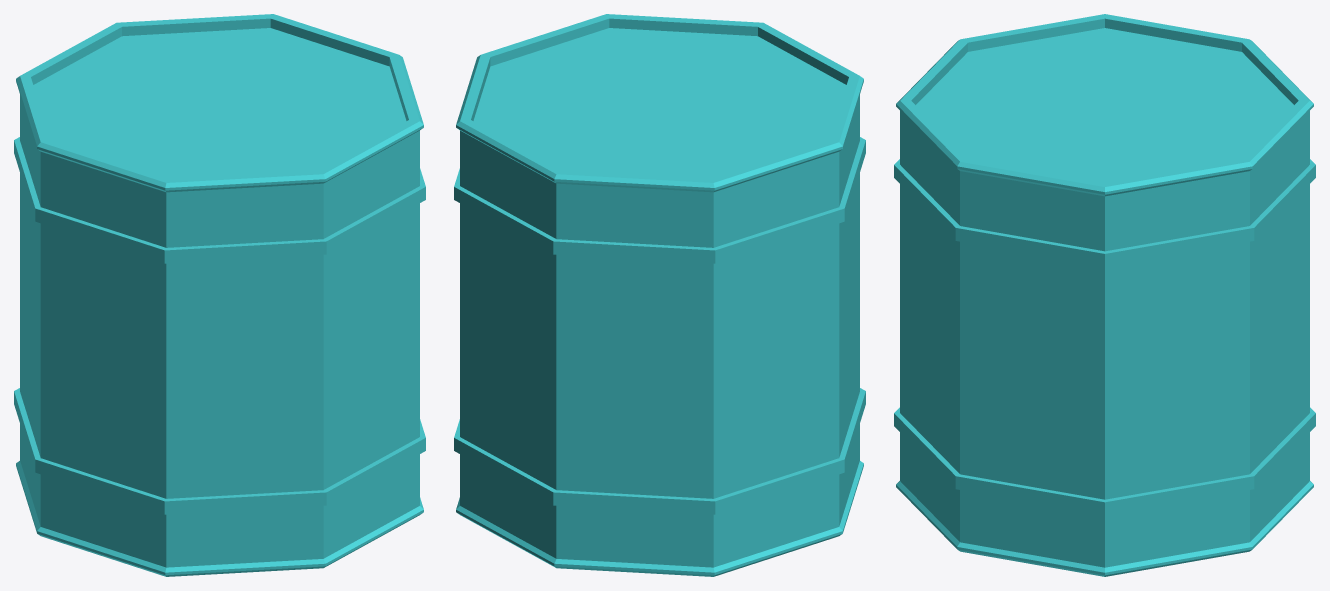
File: Cryo_Barrel.glb
The picture shows the model from 3 angles, left to right: view 1: azimuth 30°, elevation 25°; view 2: azimuth 150°, elevation 25°; view 3: azimuth 270°, elevation 25°; orthographic projection.
Parts seen in each view (by area): view 1: Cryo Barrel; view 2: Cryo Barrel; view 3: Cryo Barrel.
Part boxes in pixels (x1=…): Cryo Barrel: x1=14, y1=14, x2=425, y2=576; Cryo Barrel: x1=454, y1=14, x2=865, y2=576; Cryo Barrel: x1=894, y1=14, x2=1315, y2=576.
Bounding box in the file's own units: 2.06 × 2.1 × 2.06.
1 material, 1 textured.
